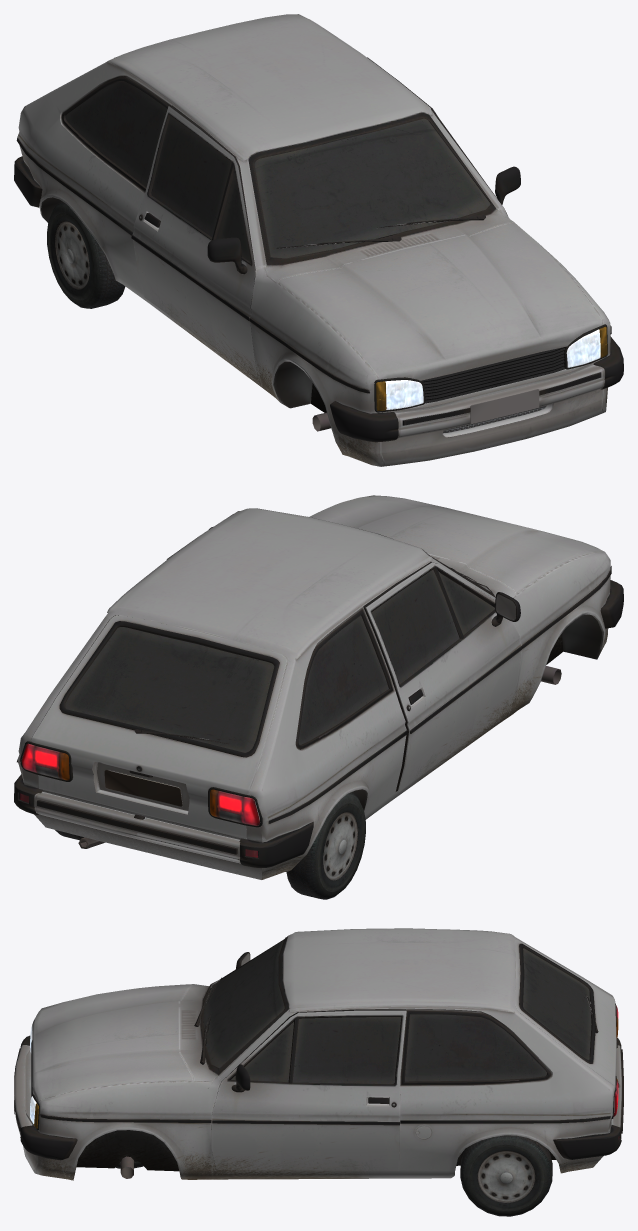
File: good-dirty-car.fbx
3 renders of one model, top to bottom at view 1: azimuth 30°, elevation 25°; view 2: azimuth 150°, elevation 25°; view 3: azimuth 270°, elevation 25°, orthographic. The views are drawn at different scales.
Parts seen in each view (by area): view 1: Body, door_R, back_wheel_s, door_L; view 2: Body, door_R, back_wheel_s; view 3: Body, door_L, back_wheel_s.
Part boxes in pixels (left/top/right/bottom): Body: left=14, top=14, right=623, bottom=466; door_R: left=131, top=105, right=257, bottom=378; back_wheel_s: left=47, top=201, right=125, bottom=308; door_L: left=367, top=57, right=520, bottom=215; Body: left=14, top=495, right=623, bottom=879; door_R: left=363, top=562, right=521, bottom=792; back_wheel_s: left=55, top=792, right=365, bottom=899; Body: left=14, top=928, right=623, bottom=1180; door_L: left=211, top=1009, right=406, bottom=1171; back_wheel_s: left=460, top=1135, right=552, bottom=1216.
Size of the model in its own units: 22.43 by 17.14 by 46.37.
Materials: 3 (3 with a texture image).
